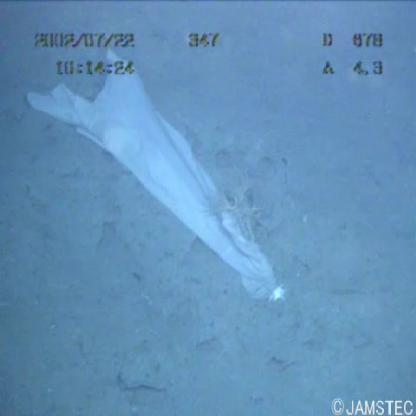Bio: (208, 172, 268, 246)
Rác: (25, 48, 291, 314)
